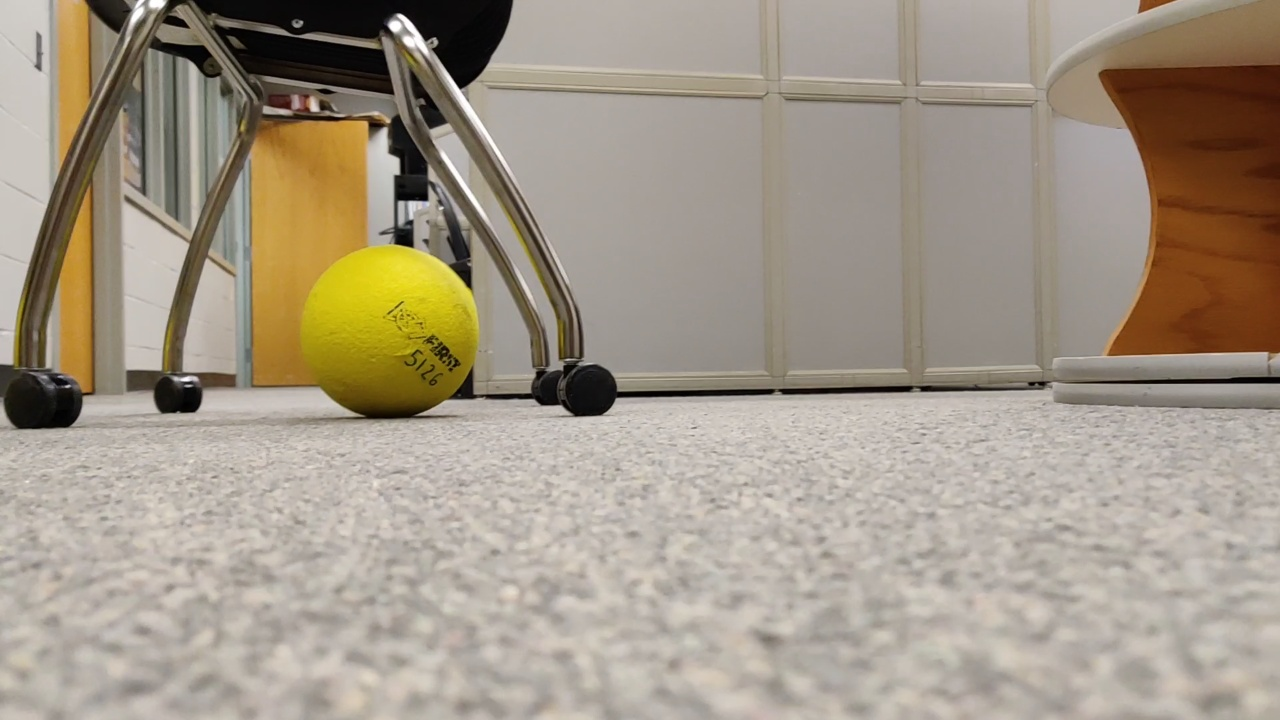Ball: (298, 240, 481, 421)
